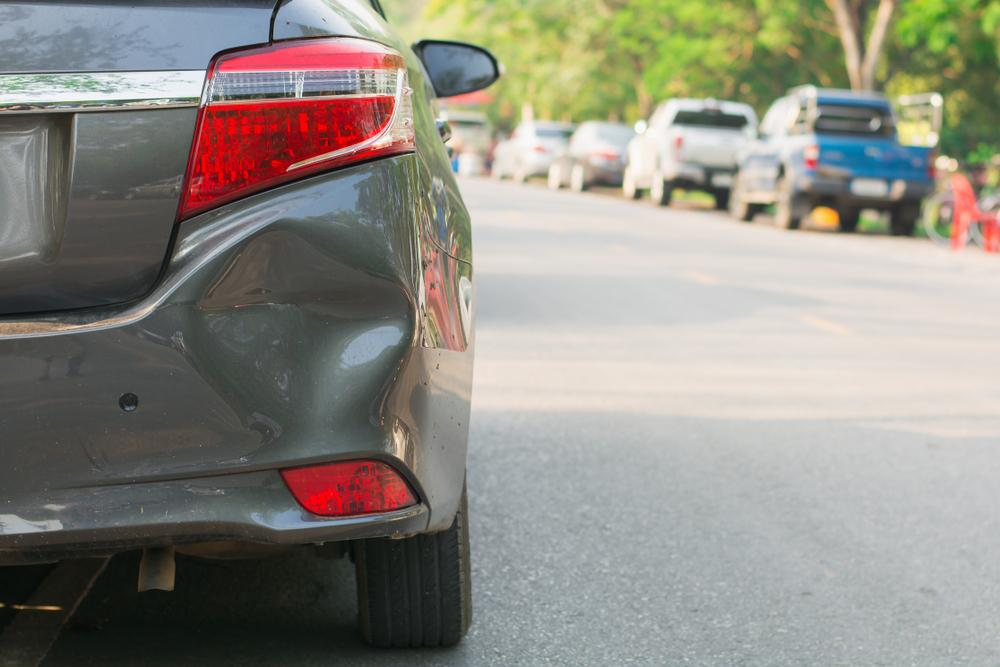dent: (199, 230, 409, 414)
